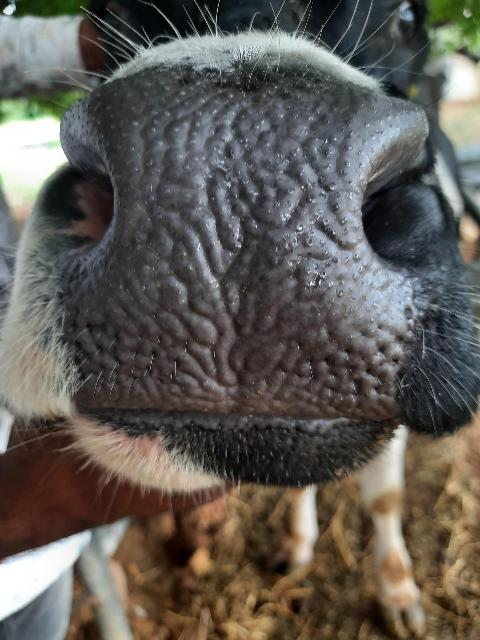Muzzle: (80, 89, 398, 414)
